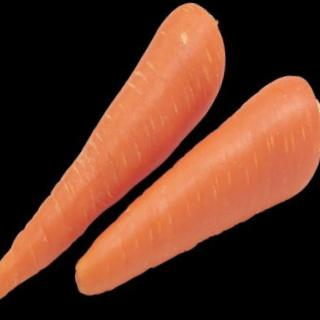Wortel: (1, 1, 232, 320), (73, 55, 320, 318)
